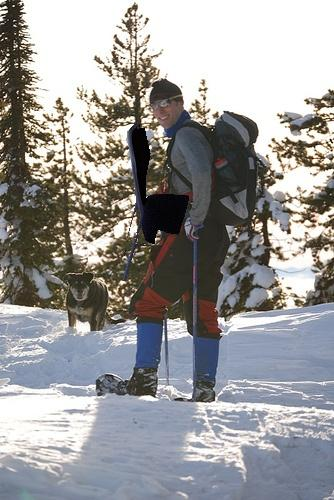tampered: (124, 124, 189, 281)
